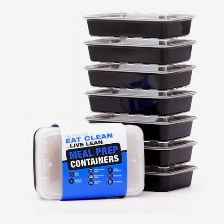plastic_box: (76, 4, 203, 198), (23, 114, 150, 206)
